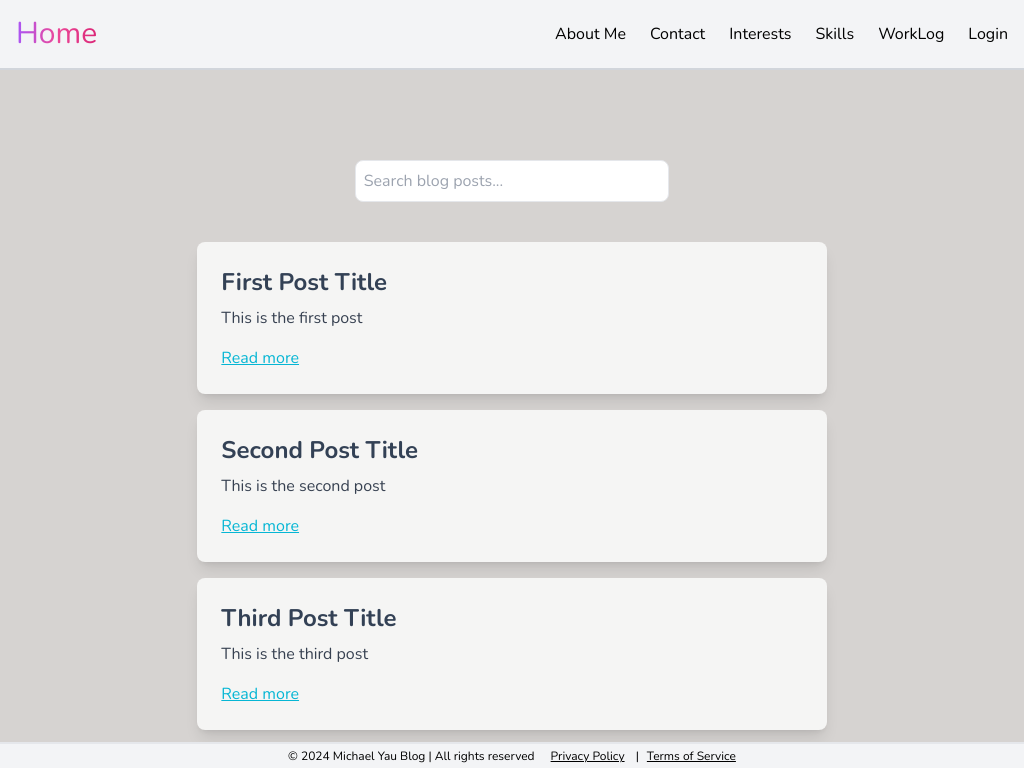
LandingPage › filters blog posts by search query
This screenshot has width=1024, height=768.
Filter by search query
In the field with placeholder "Search blog posts...": (512, 181) 355,160 -> 669,202, type "First"
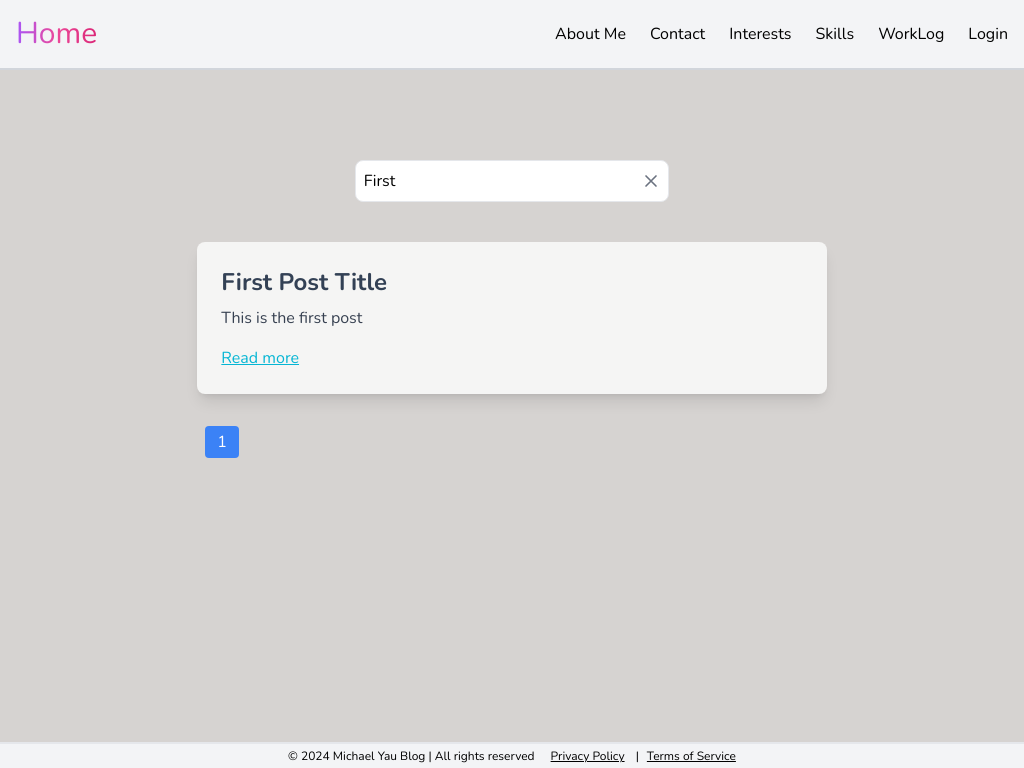
Check: the link "First Post Title" is shown, box 221,266 -> 387,298
Check: the link "Second Post Title" is gone
